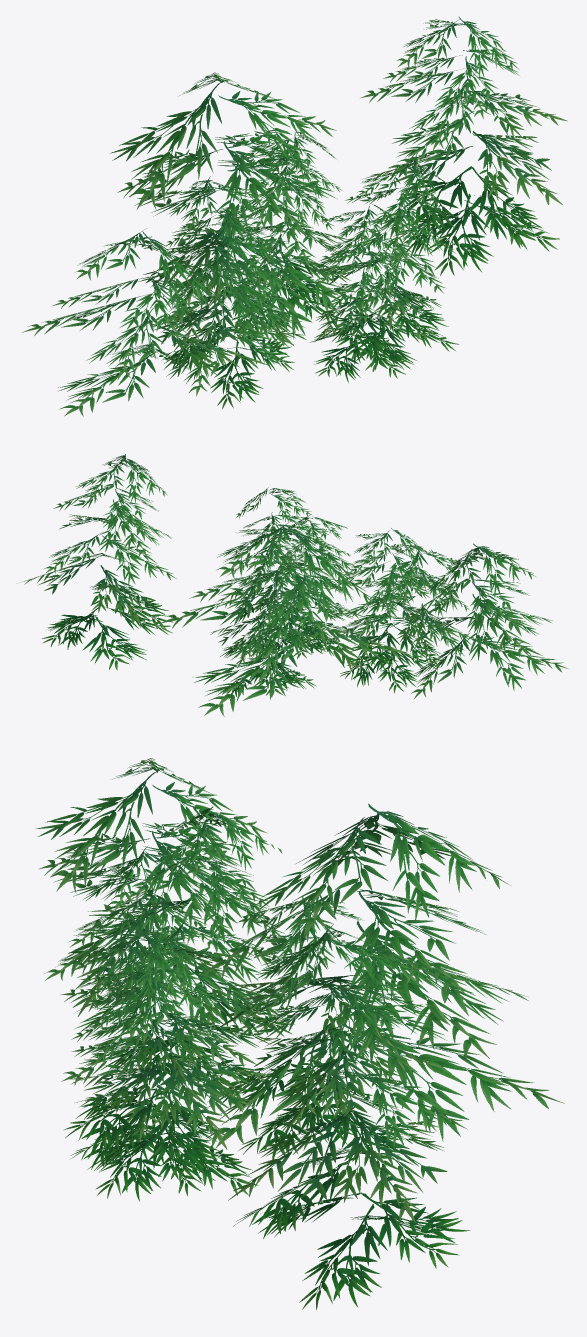
The model's file is Area_09_46.fbx.
3 views of the same model, one above another, from view 1: azimuth 30°, elevation 25°; view 2: azimuth 150°, elevation 25°; view 3: azimuth 270°, elevation 25° (orthographic). The views are drawn at different scales.
Visible parts, largest first — view 1: Area_09_46; view 2: Area_09_46; view 3: Area_09_46.
Boxes of the visible parts, x1,y1,x2,y2 form: Area_09_46: [22, 16, 567, 416]; Area_09_46: [22, 454, 568, 716]; Area_09_46: [36, 758, 564, 1309].
Size of the model in its own units: 2008 by 842 by 1211.
